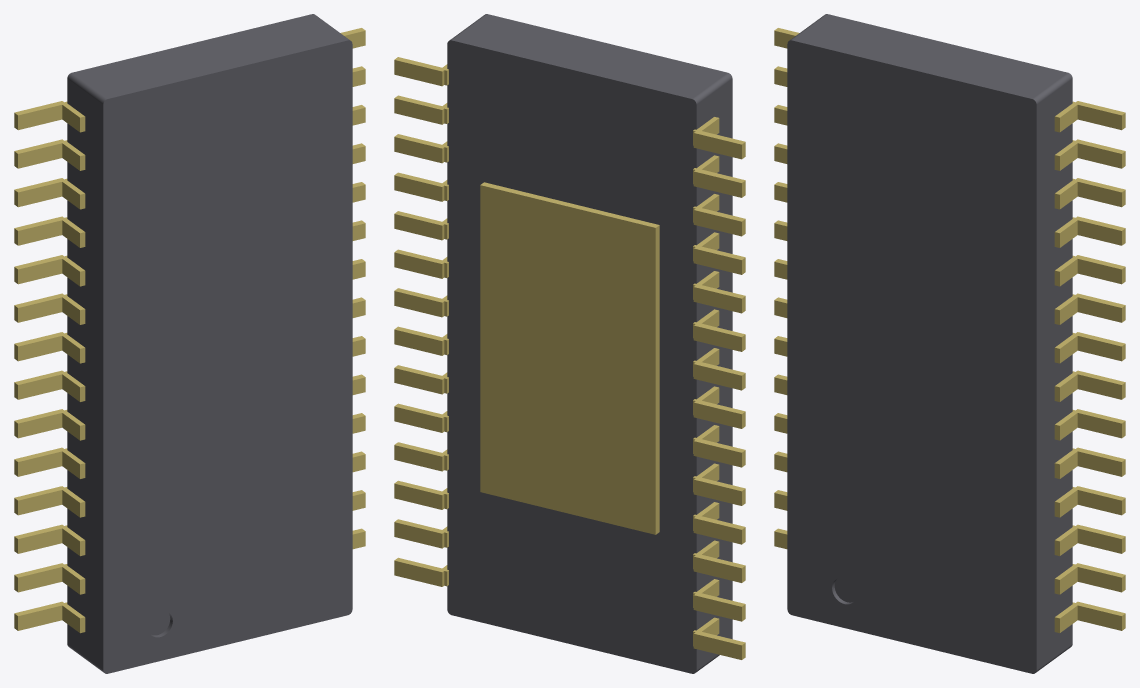
File: drv8825.glb
The picture shows the model from 3 angles, left to right: view 1: azimuth 30°, elevation 25°; view 2: azimuth 150°, elevation 25°; view 3: azimuth 330°, elevation 25°; orthographic projection.
Parts seen in each view (by area): view 1: extra, pins; view 2: extra, pins; view 3: extra, pins.
Part boxes in pixels (box(x1,y1,x2,y2)): extra: box(67, 14, 352, 673); pins: box(14, 28, 365, 633); extra: box(447, 14, 732, 673); pins: box(394, 57, 745, 659); extra: box(787, 14, 1072, 673); pins: box(774, 28, 1125, 633).
Bounding box in the file's own units: 6.14 × 9.7 × 1.22.
